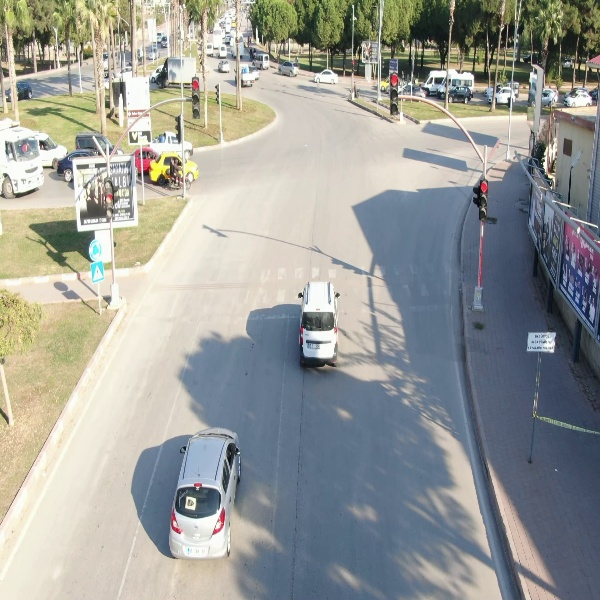car: (165, 423, 244, 565), (296, 279, 341, 369), (562, 87, 595, 108), (312, 65, 341, 85), (275, 59, 301, 80), (448, 84, 474, 104), (251, 52, 270, 68), (217, 58, 233, 74)
